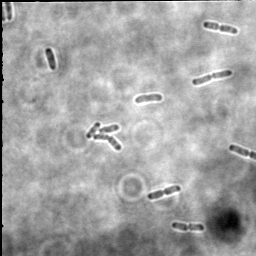microcolony: (85, 121, 125, 152)
rod: (132, 91, 164, 106), (43, 44, 58, 71), (227, 142, 249, 158), (190, 71, 213, 86), (217, 22, 240, 36), (146, 187, 165, 202), (163, 182, 181, 197), (170, 218, 188, 233), (200, 18, 219, 32), (210, 68, 232, 80), (188, 221, 207, 234)
